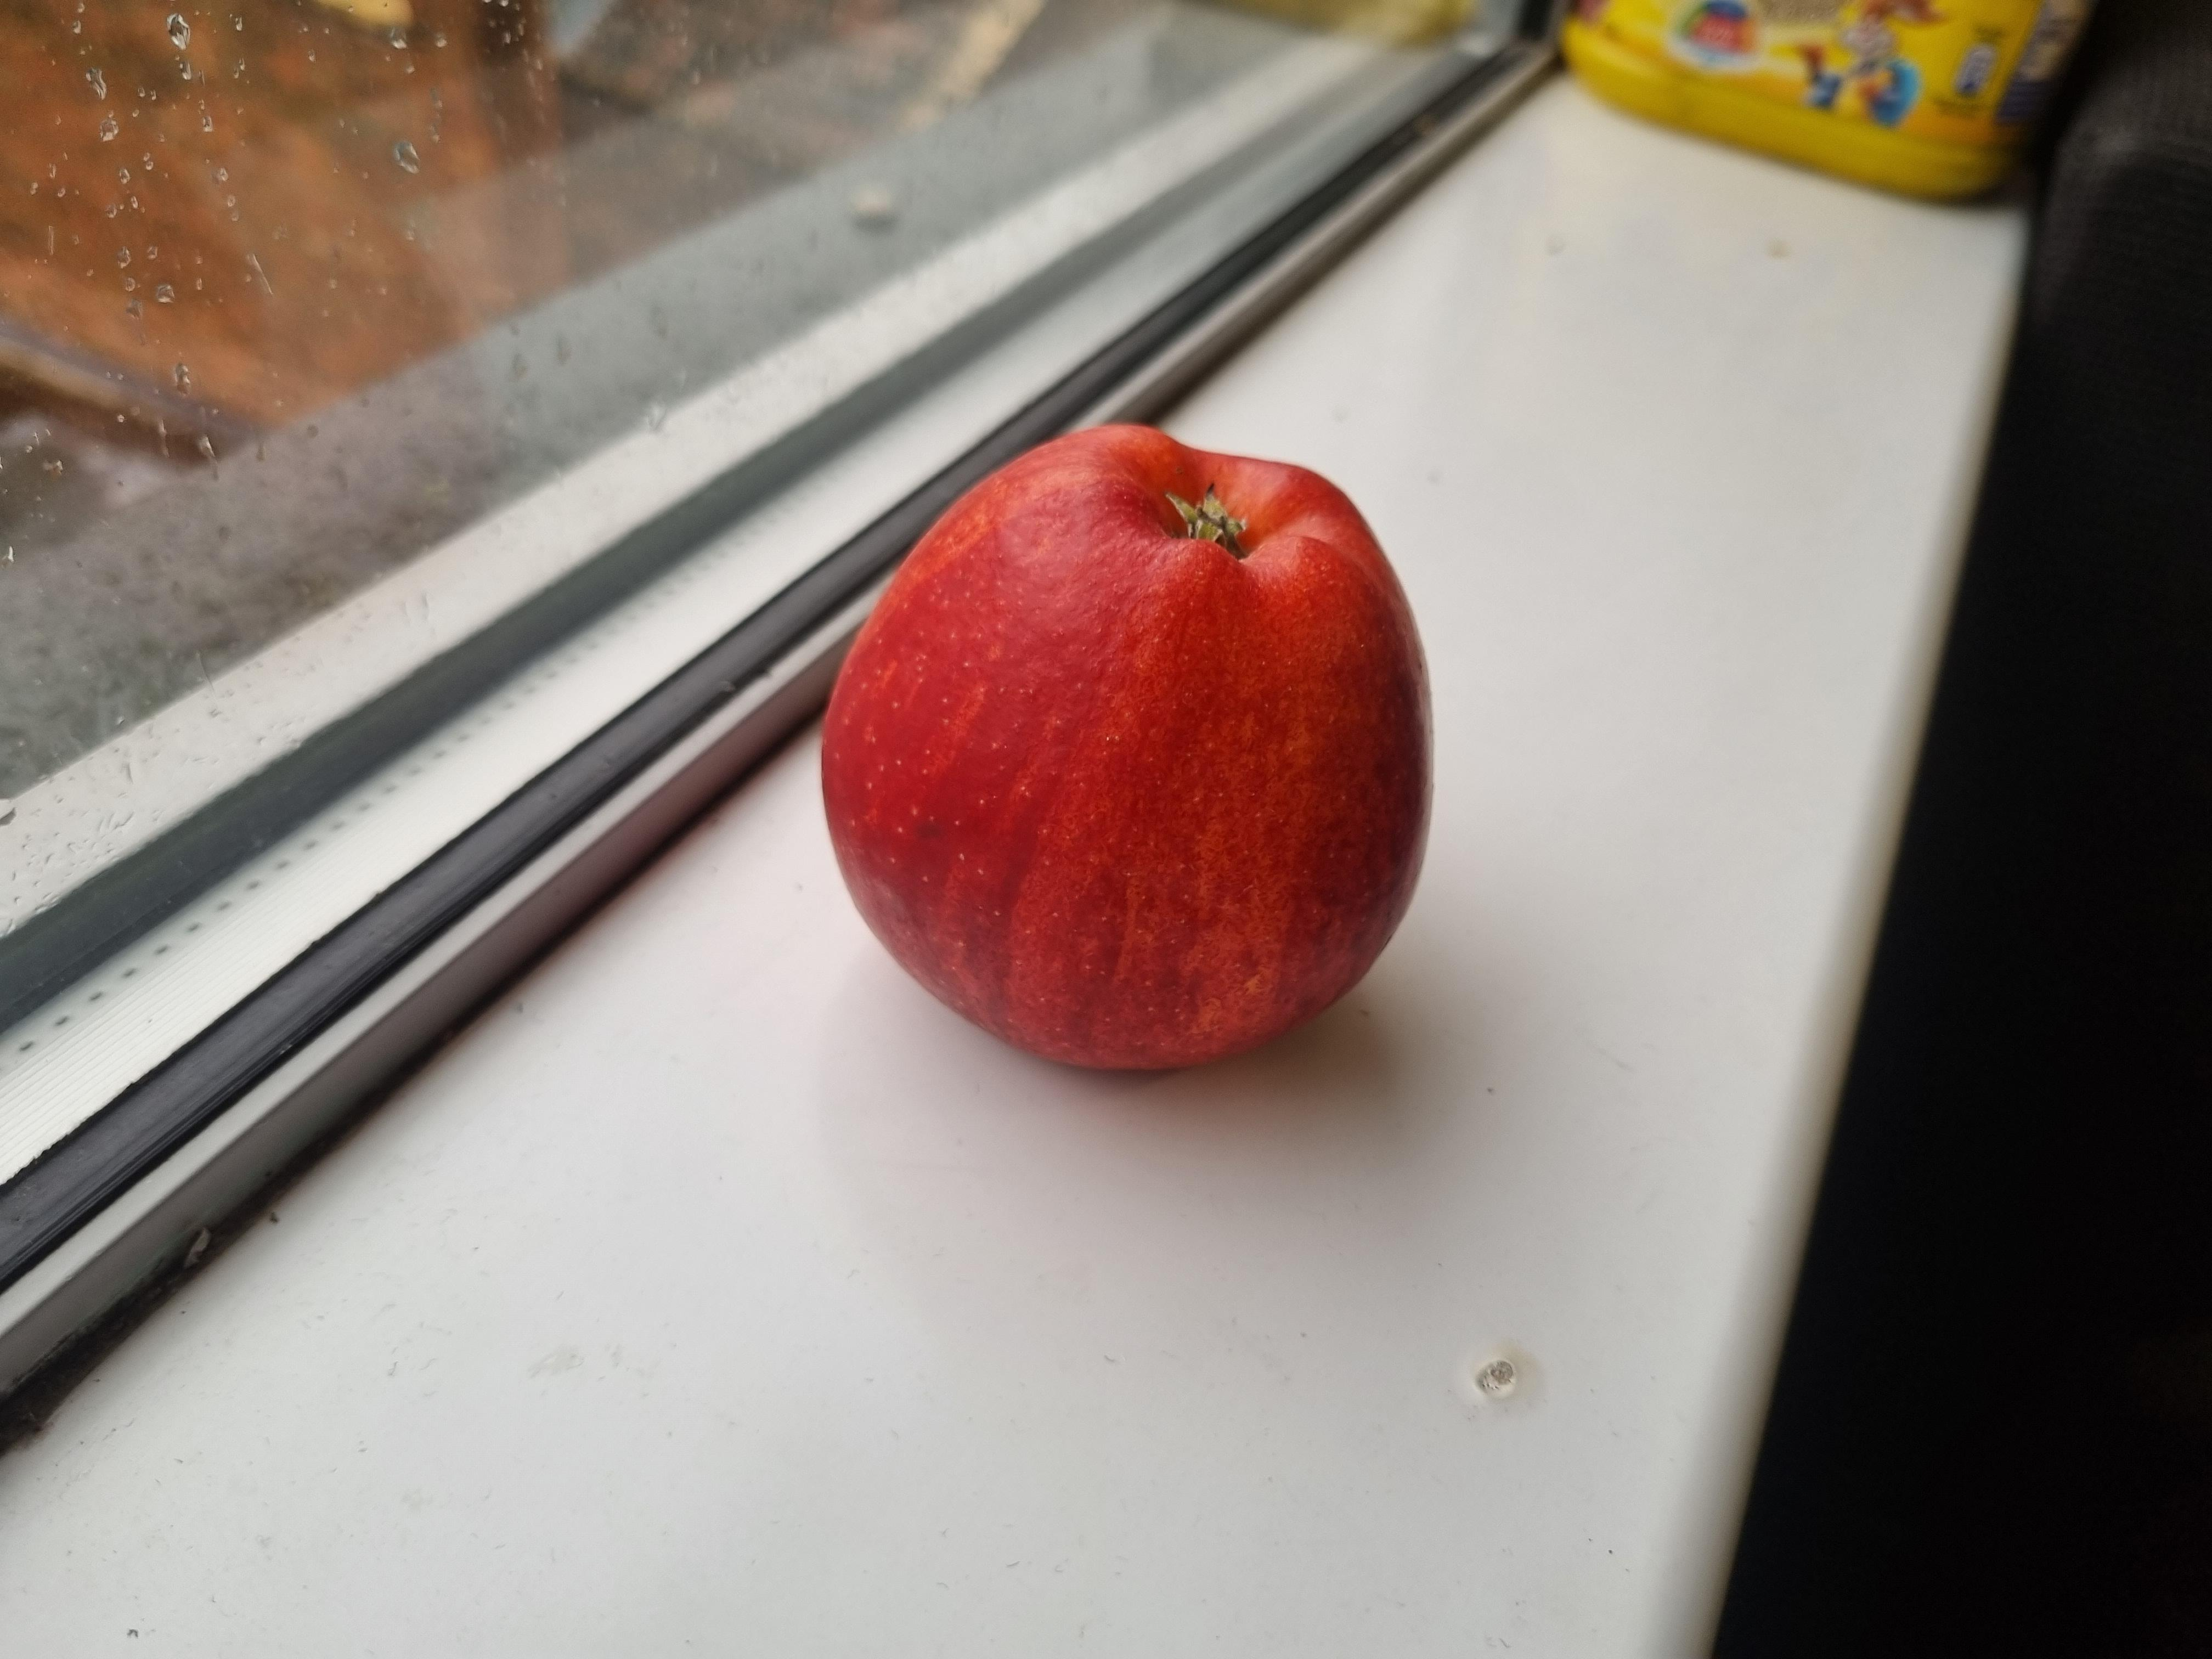Apple: (808, 382, 1468, 1091)
